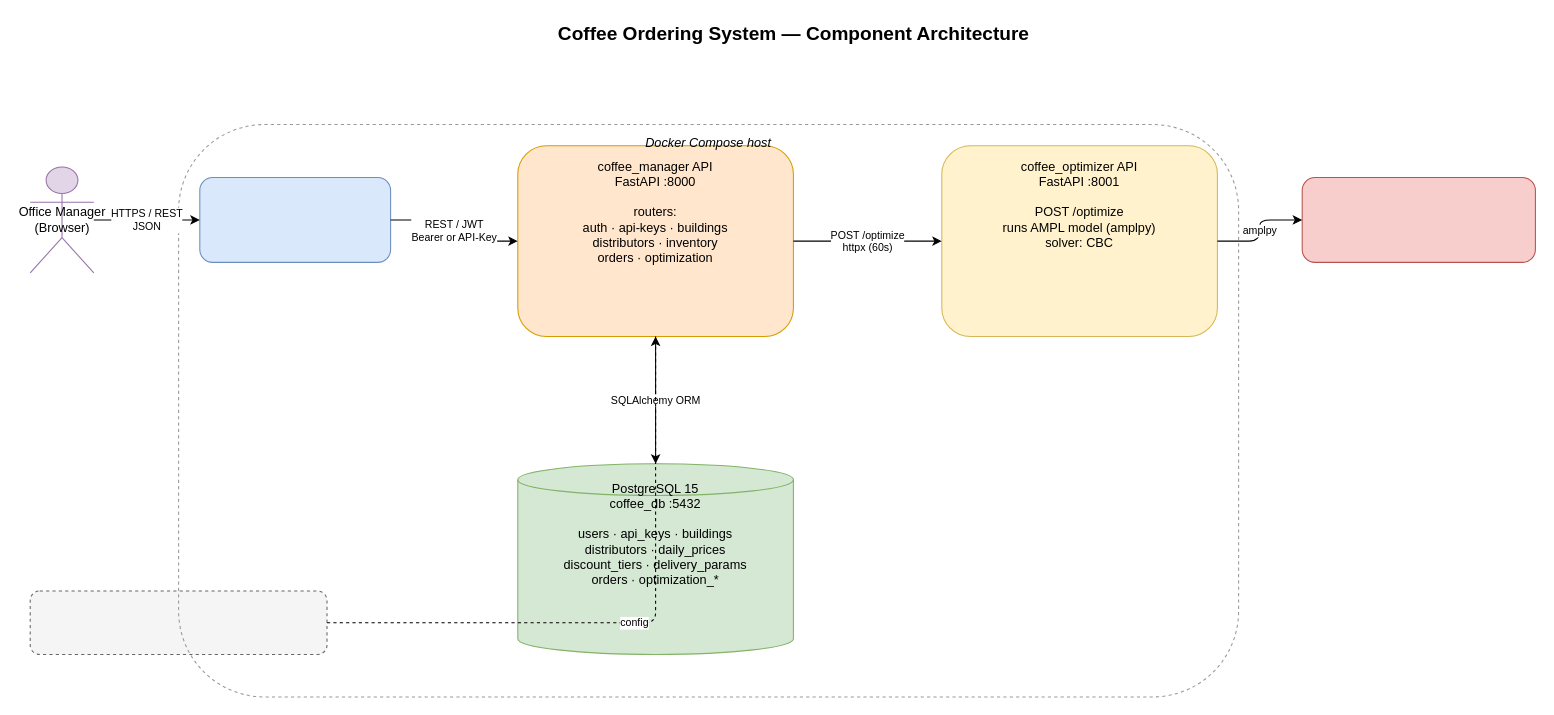
Image size: 1554x715. Some labels were removed from this diagram. The shapes that lost their labels are listed below. From the top down, each one's centre as x and y in pixels, then its label:
the point at 295,219: Frontend (Vite + React) :5173
the point at 1418,219: AMPL Model (MILP) variables: x, x0, I, y_skl, y_rab
the point at 178,622: .env / docker-compose.yml POSTGRES_HOST · OPTIMIZER_URL · JWT
